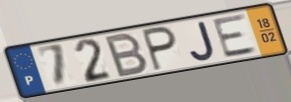2: (73, 37, 114, 85)
7: (34, 44, 68, 89)
B: (104, 31, 150, 80)
E: (210, 11, 260, 60)
J: (188, 20, 217, 63)
P: (140, 24, 179, 73)
